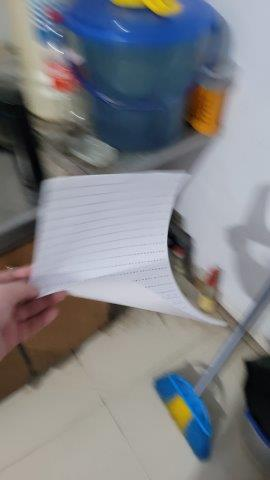kertas: (29, 170, 229, 332)
